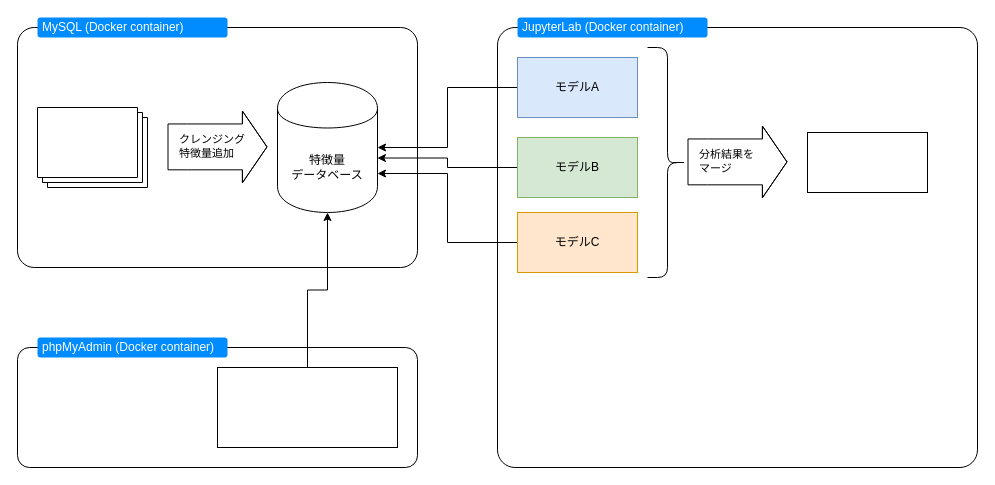
The diagram is 995 pixels wide and 485 high, and some of its shapes have lost their labels. The centre of each missing label's shape, as x and y in pixels:
Kaggleへ提出する データ: the point at 867,162
ブラウザからphpMyAdminを 起動し、SQLで特徴量を分析: the point at 307,407
・学習データ ・テストデータ: the point at 92,147
